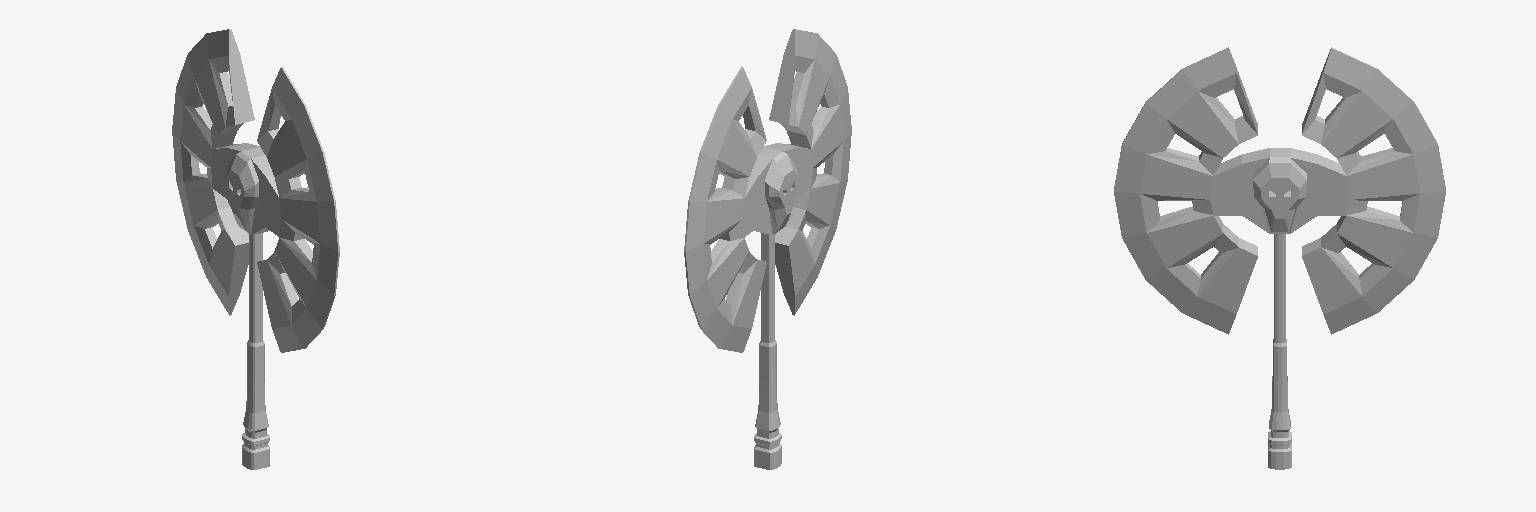
Rendered from axeBaseMesh.obj.
The picture shows the model from 3 angles: view 1: azimuth 30°, elevation 25°; view 2: azimuth 150°, elevation 25°; view 3: azimuth 270°, elevation 25°; orthographic projection.
Parts seen in each view (by area): view 1: pCylinder1; view 2: pCylinder1; view 3: pCylinder1.
Part boxes in pixels (left/top/right/bottom): pCylinder1: left=172, top=29, right=339, bottom=469; pCylinder1: left=684, top=29, right=851, bottom=469; pCylinder1: left=1114, top=47, right=1445, bottom=469.
Size of the model in its own units: 34.79 by 328 by 237.